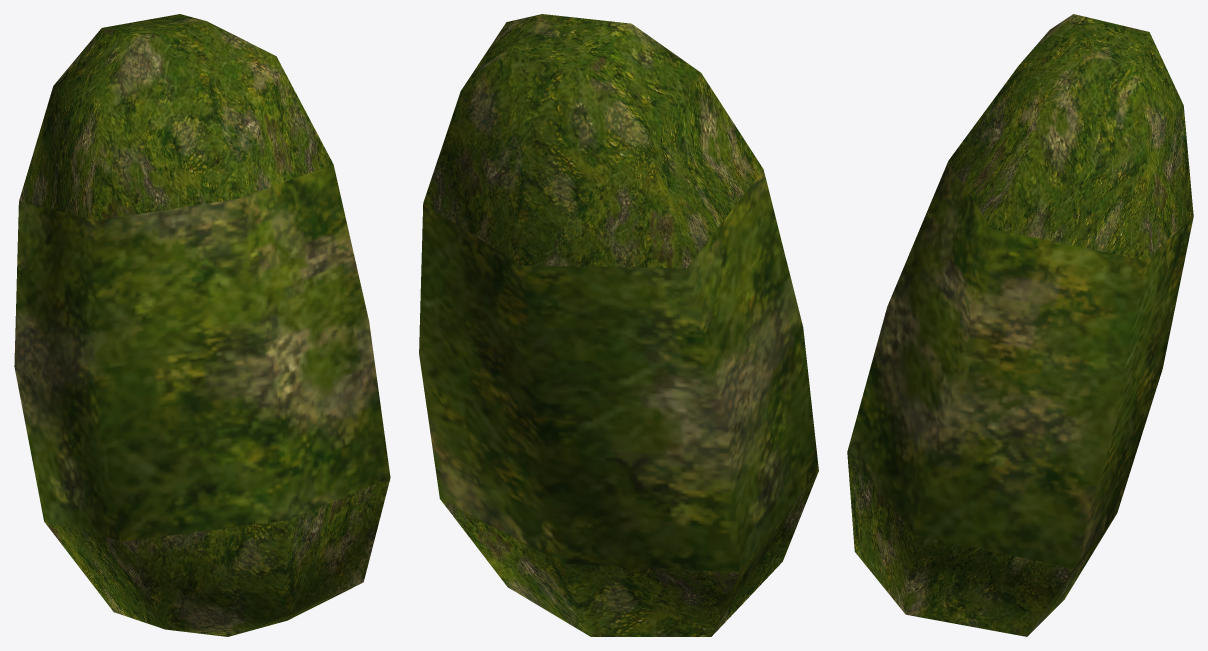
Rendered from OVERHILL_A_01_ROCK_BRIDGE03.fbx.
The picture shows the model from 3 angles, left to right: view 1: azimuth 30°, elevation 25°; view 2: azimuth 150°, elevation 25°; view 3: azimuth 270°, elevation 25°; orthographic projection. The views are drawn at different scales.
Visible parts, largest first — view 1: OVERHILL_A_01_ROCK_BRIDGE03; view 2: OVERHILL_A_01_ROCK_BRIDGE03; view 3: OVERHILL_A_01_ROCK_BRIDGE03.
Boxes of the visible parts, bbox=[...] form: OVERHILL_A_01_ROCK_BRIDGE03: bbox=[14, 14, 390, 636]; OVERHILL_A_01_ROCK_BRIDGE03: bbox=[419, 14, 818, 636]; OVERHILL_A_01_ROCK_BRIDGE03: bbox=[847, 14, 1193, 636].
Size of the model in its own units: 13647 by 26438 by 14420.
1 material, 1 textured.
